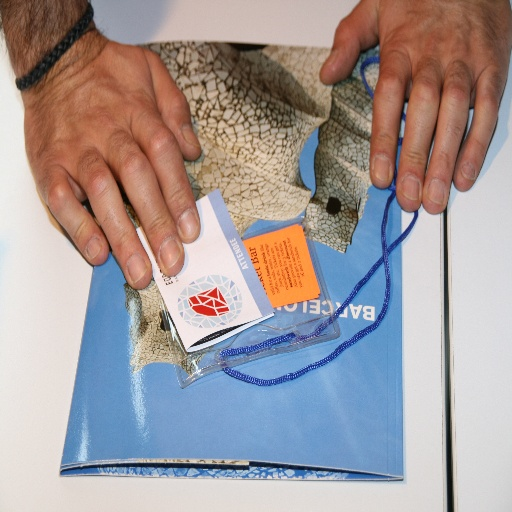hand: (2, 7, 222, 286), (318, 0, 511, 213)
